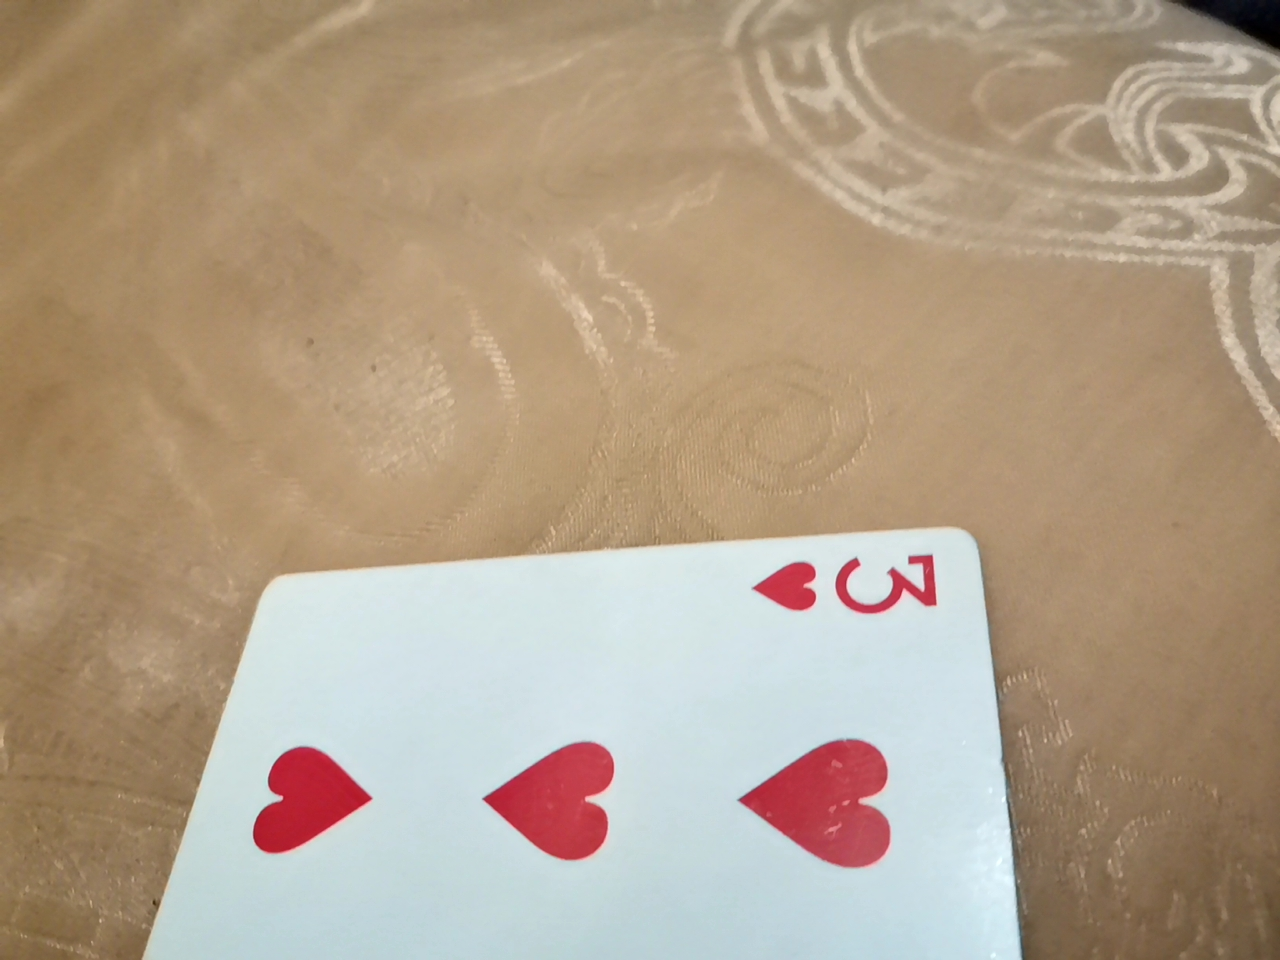hx 3: (75, 544, 1024, 959)
